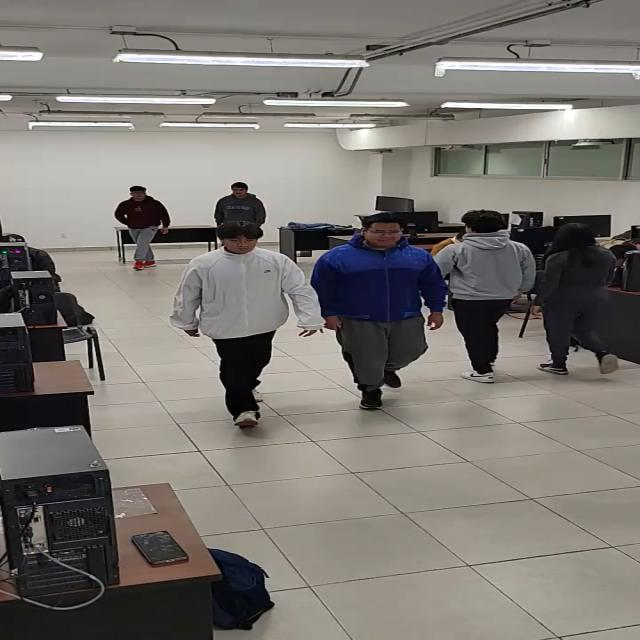Persona: (189, 223, 294, 426), (326, 213, 424, 410), (440, 206, 534, 386), (544, 220, 624, 376), (119, 185, 173, 272), (219, 180, 268, 224)
